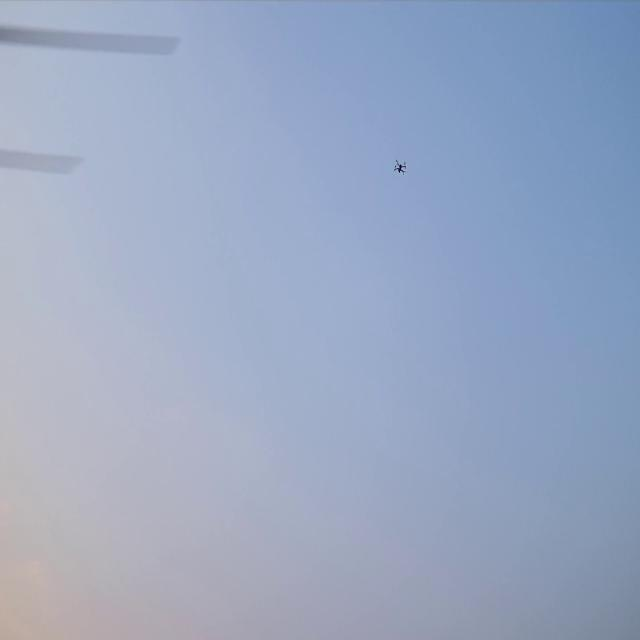UAV: (395, 160, 405, 172)
